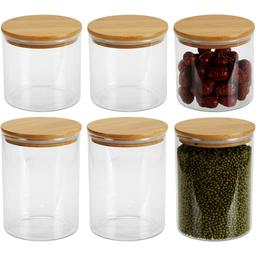glass: (85, 110, 170, 244), (0, 118, 83, 246), (0, 7, 89, 119), (81, 8, 168, 116), (172, 6, 254, 119)
